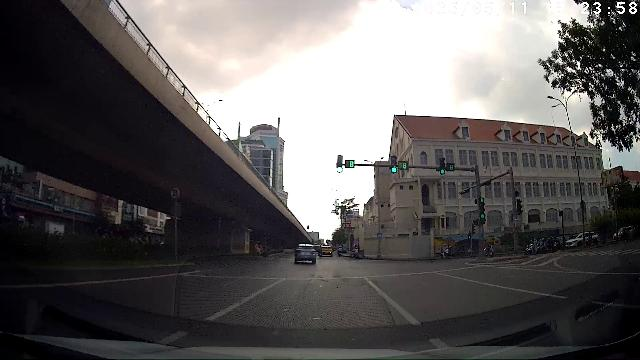124a-cam-quay-dau-xe: (170, 186, 182, 200)
